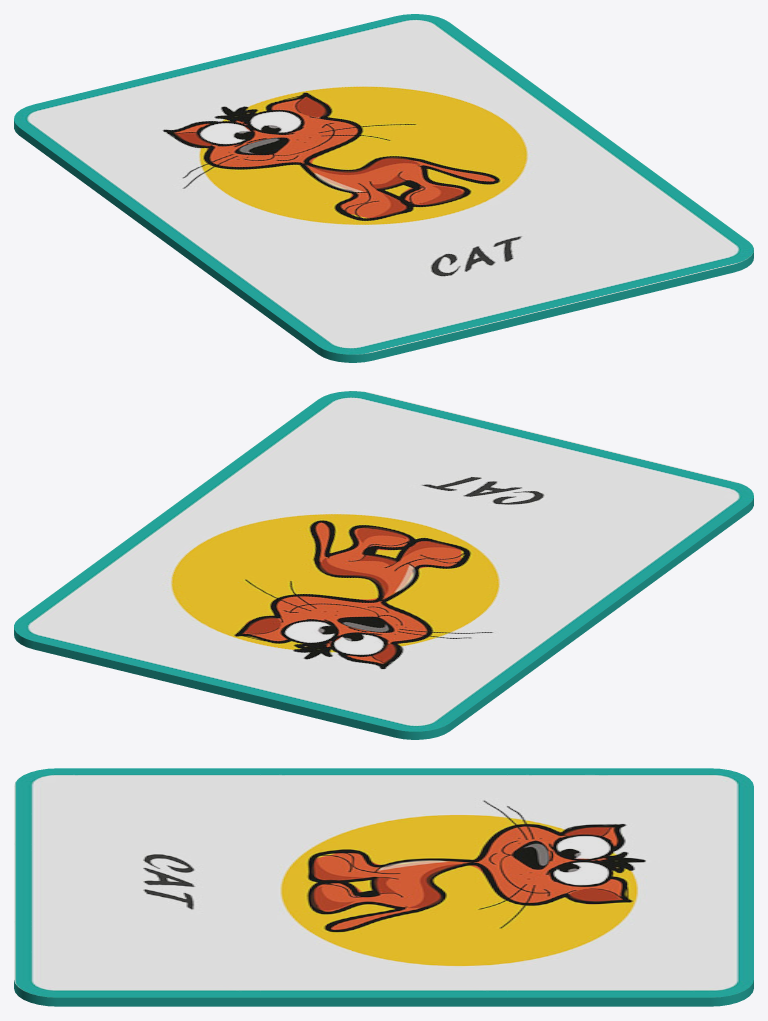
File: carta memory_cat.fbx
3 views of the same model, one above another, from view 1: azimuth 30°, elevation 25°; view 2: azimuth 150°, elevation 25°; view 3: azimuth 270°, elevation 25° (orthographic). The views are drawn at different scales.
Parts seen in each view (by area): view 1: pCube1; view 2: pCube1; view 3: pCube1.
Boxes of the visible parts, box(x1,y1,x2,y2) form: pCube1: box(14, 14, 753, 362); pCube1: box(14, 391, 753, 739); pCube1: box(14, 768, 753, 1006).
Bounding box in the file's own units: 5.5 × 0.1 × 7.5.
Materials: 1 (1 with a texture image).
